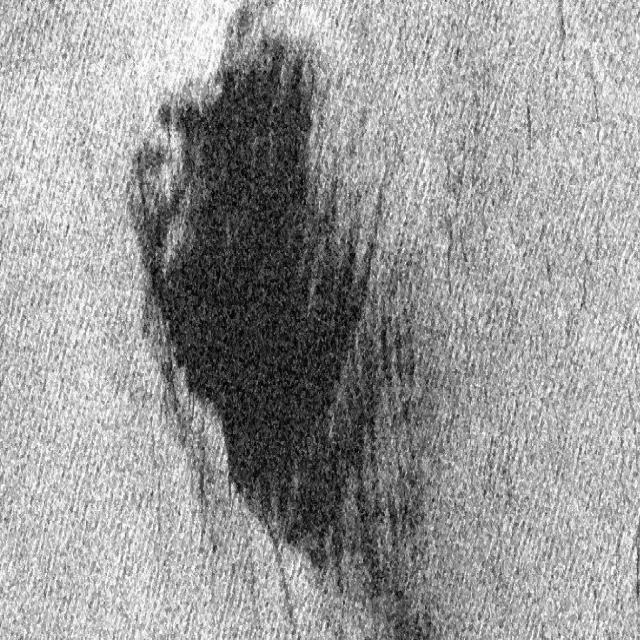look-alike: (121, 32, 447, 631)
